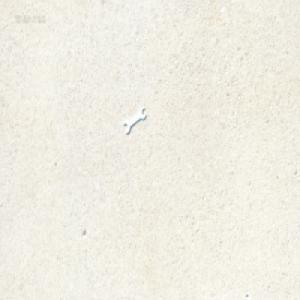Wrench: (127, 105, 149, 133)
